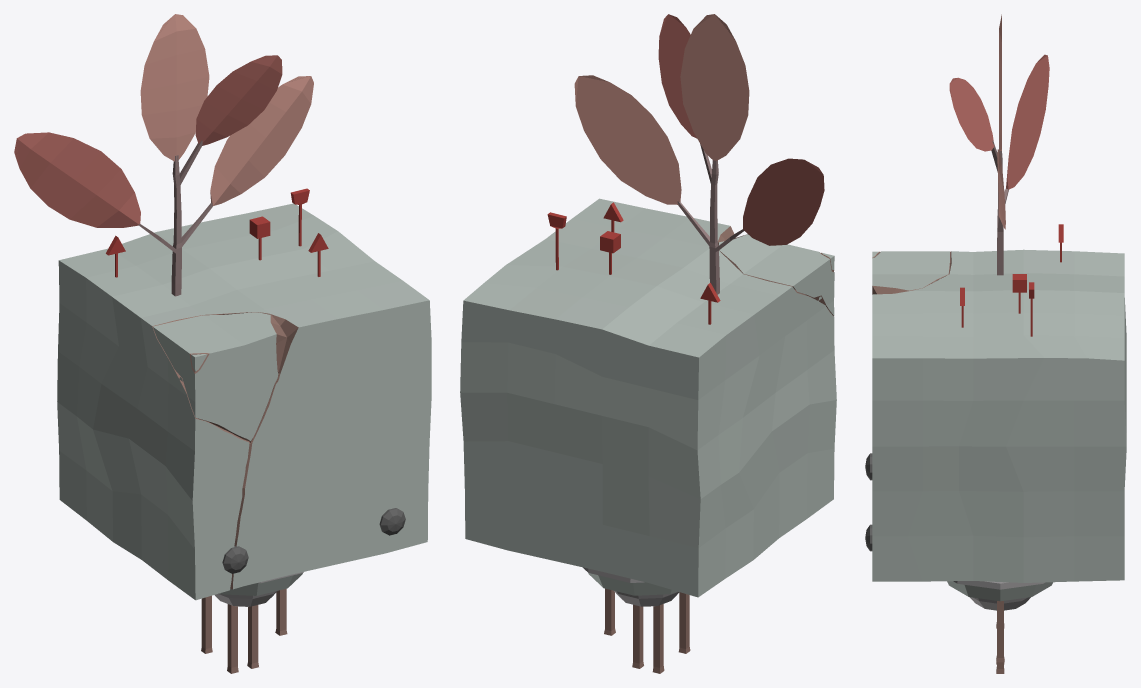
The model's file is Plant From Gris.fbx.
3 views of the same model, side by side, from view 1: azimuth 30°, elevation 25°; view 2: azimuth 150°, elevation 25°; view 3: azimuth 270°, elevation 25° (orthographic). The views are drawn at different scales.
Visible parts, largest first — view 1: pCube1, pCube10, pCube8, pCube9, pCube11, pCube7, pSphere1, polySurface3, polySurface2, polySurface4; view 2: pCube1, pCube9, pCube8, pCube10, pCube11, pSphere1, pCube7, polySurface3, polySurface2, polySurface4; view 3: pCube1, pCube10, pCube11, pSphere1, pCube7, pCube9, polySurface1.
Part boxes in pixels (x1,y1,x2,y2): pCube1: (57,203,431,600); pCube10: (14,132,140,227); pCube8: (140,14,209,161); pCube9: (210,76,313,205); pCube11: (195,55,282,145); pCube7: (138,140,212,296); pSphere1: (214,572,303,606); polySurface3: (227,604,238,673); polySurface2: (247,605,258,668); polySurface4: (201,595,212,653); pCube1: (460,198,836,597); pCube9: (574,75,681,204); pCube8: (680,14,749,160); pCube10: (743,158,824,245); pCube11: (658,14,696,138); pSphere1: (583,567,679,606); pCube7: (677,144,743,294); polySurface3: (652,604,664,673); polySurface2: (632,604,643,668); polySurface4: (678,592,690,653); pCube1: (872,249,1126,582); pCube10: (1006,54,1049,189); pCube11: (949,77,994,151); pSphere1: (947,581,1052,610); pCube7: (991,140,1008,275); pCube9: (997,149,1005,229); polySurface1: (996,601,1004,662).
Size of the model in its own units: 1.38 by 2.73 by 1.04.
